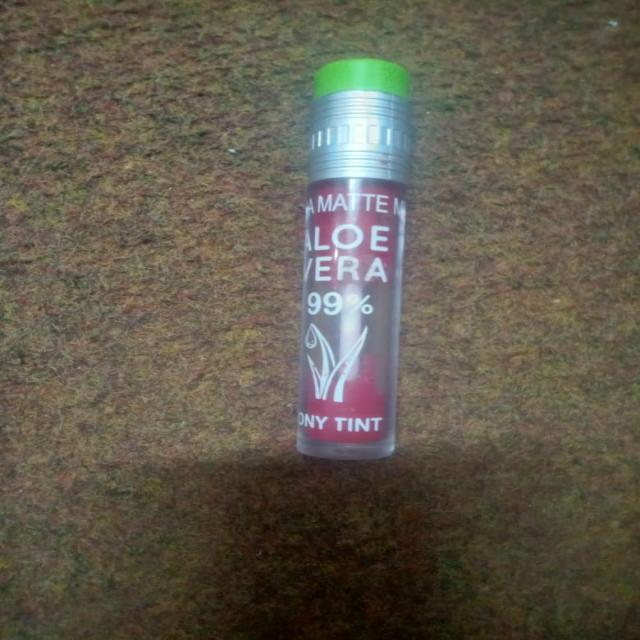lip gloss: (277, 31, 426, 492)
